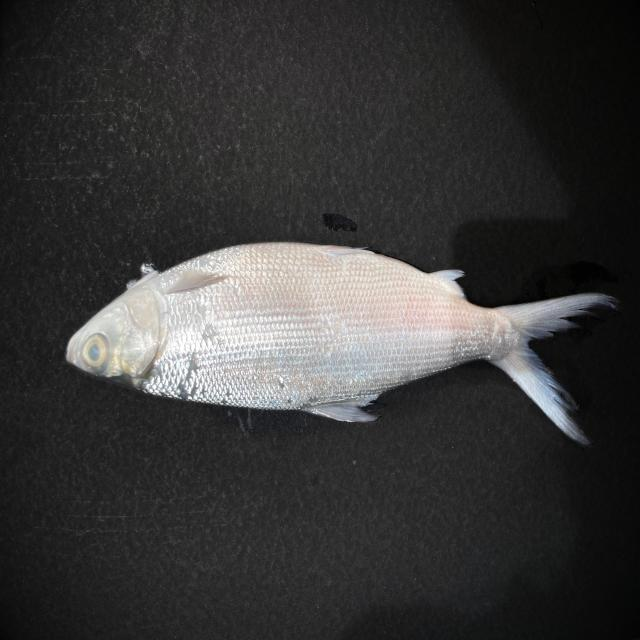710 g: (65, 240, 621, 448)
